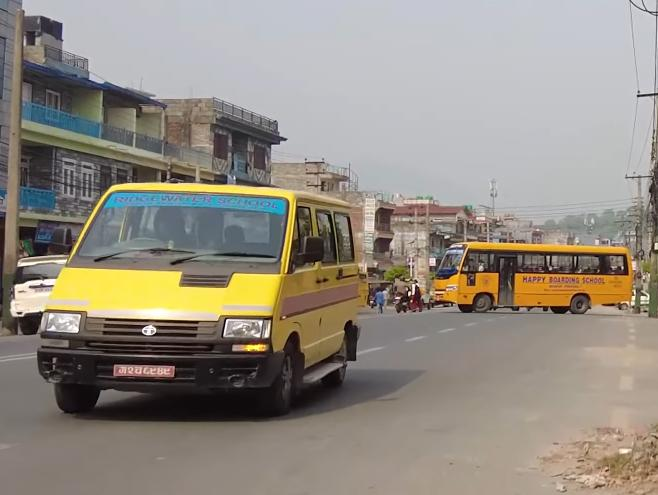school_bus: (30, 179, 366, 419), (431, 236, 635, 316)
